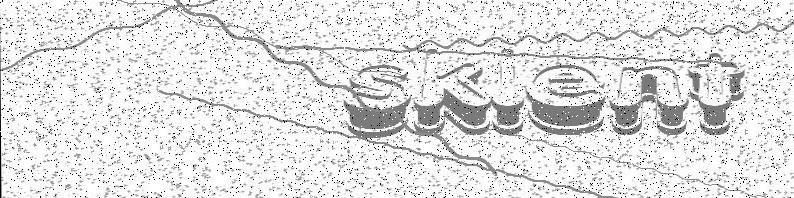e: (527, 59, 608, 139)
k: (413, 46, 492, 134)
l: (488, 44, 529, 138)
n: (607, 61, 690, 135)
s: (342, 59, 413, 138)
t: (692, 51, 748, 138)
